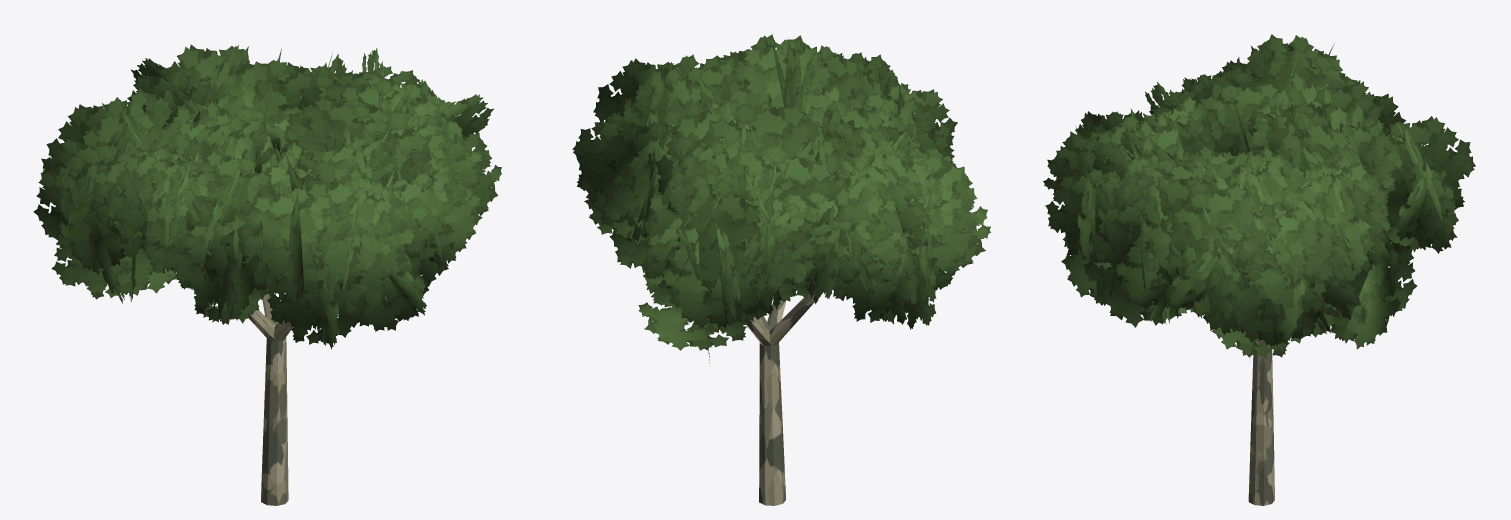
Rendered from CITY_Tree_Platano.fbx.
3 views of the same model, side by side, from view 1: azimuth 30°, elevation 25°; view 2: azimuth 150°, elevation 25°; view 3: azimuth 270°, elevation 25° (orthographic). The views are drawn at different scales.
Visible parts, largest first — view 1: CITY_Tree_Platano; view 2: CITY_Tree_Platano; view 3: CITY_Tree_Platano.
Part boxes in pixels (bbox=[...]): CITY_Tree_Platano: bbox=[33, 44, 501, 505]; CITY_Tree_Platano: bbox=[572, 34, 990, 505]; CITY_Tree_Platano: bbox=[1043, 34, 1475, 505].
Size of the model in its own units: 8.54 by 8.42 by 8.27.
